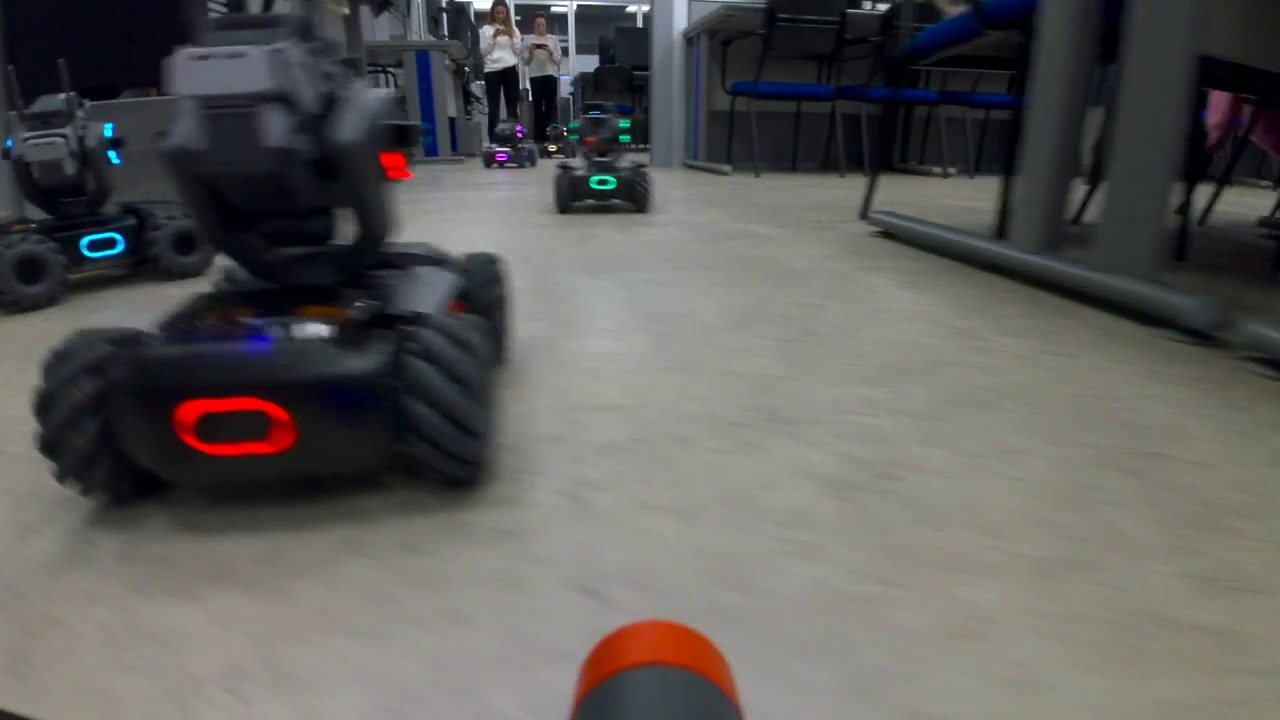robot: (30, 16, 507, 520), (554, 101, 653, 218), (482, 120, 536, 171), (540, 123, 576, 159)
